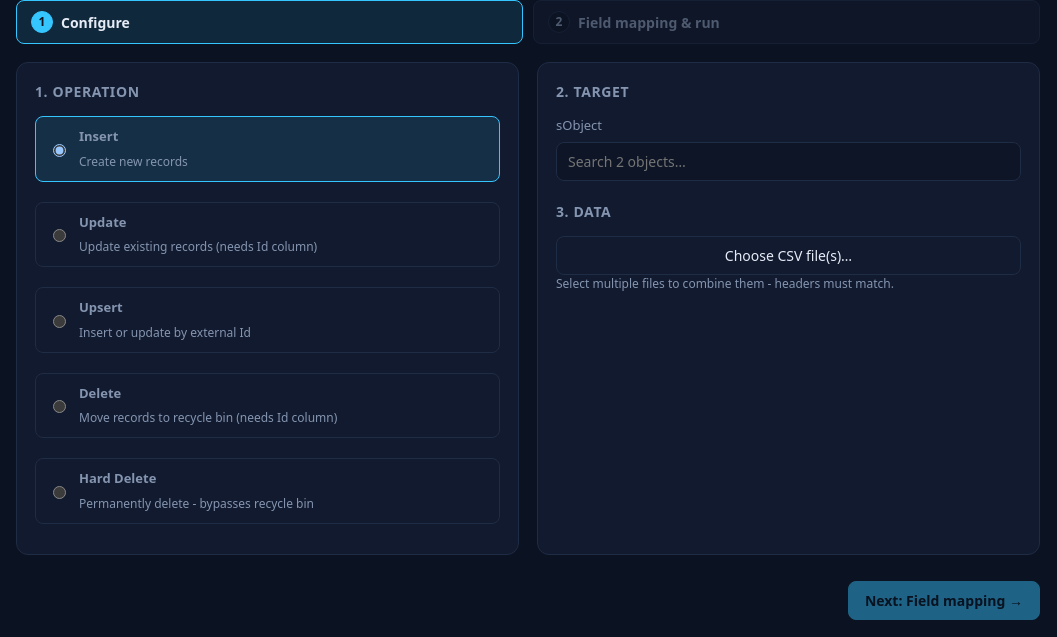
LoadPanel multi-file › combines multiple matching files into one CSV
Check: the field with placeholder "Search 2 objects…" is shown, box [556,142,1021,180]
Click the button "Choose CSV file(s)…".
click(788, 255)  # box [556,236,1021,274]
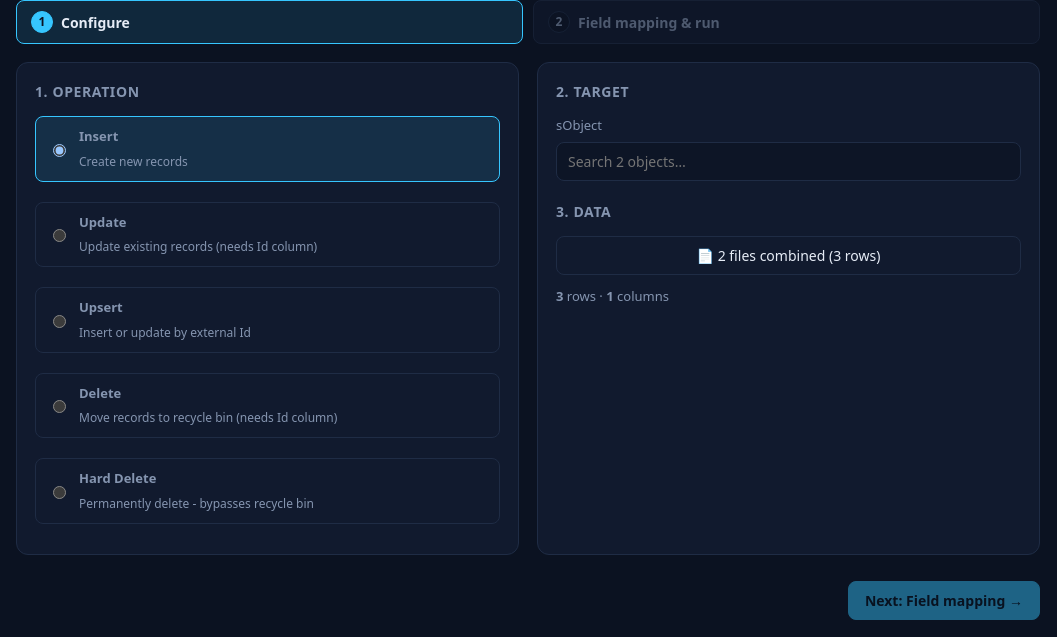
Check: the button "📄 2 files combined (3 rows)" is shown, box [556,236,1021,274]
Check: the text "3" is shown, box [556,286,563,304]
